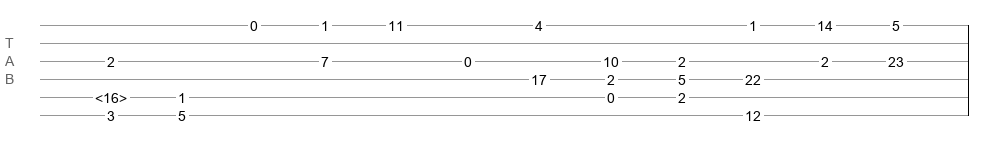0: (250, 18, 258, 28), (464, 54, 472, 64), (607, 90, 615, 100)
1: (178, 90, 186, 100), (321, 18, 329, 28), (749, 18, 757, 28)
10: (603, 54, 619, 64)
11: (388, 18, 404, 28)
12: (745, 108, 761, 118)
14: (817, 18, 833, 28)
17: (531, 72, 547, 82)
2: (107, 54, 115, 64), (607, 72, 615, 82), (678, 90, 686, 100), (678, 54, 686, 64), (821, 54, 829, 64)
22: (745, 72, 761, 82)
23: (888, 54, 904, 64)
3: (107, 108, 115, 118)
4: (535, 18, 543, 28)
5: (178, 108, 186, 118), (678, 72, 686, 82), (892, 18, 900, 28)
7: (321, 54, 329, 64)
harmonic: (95, 90, 127, 100)
